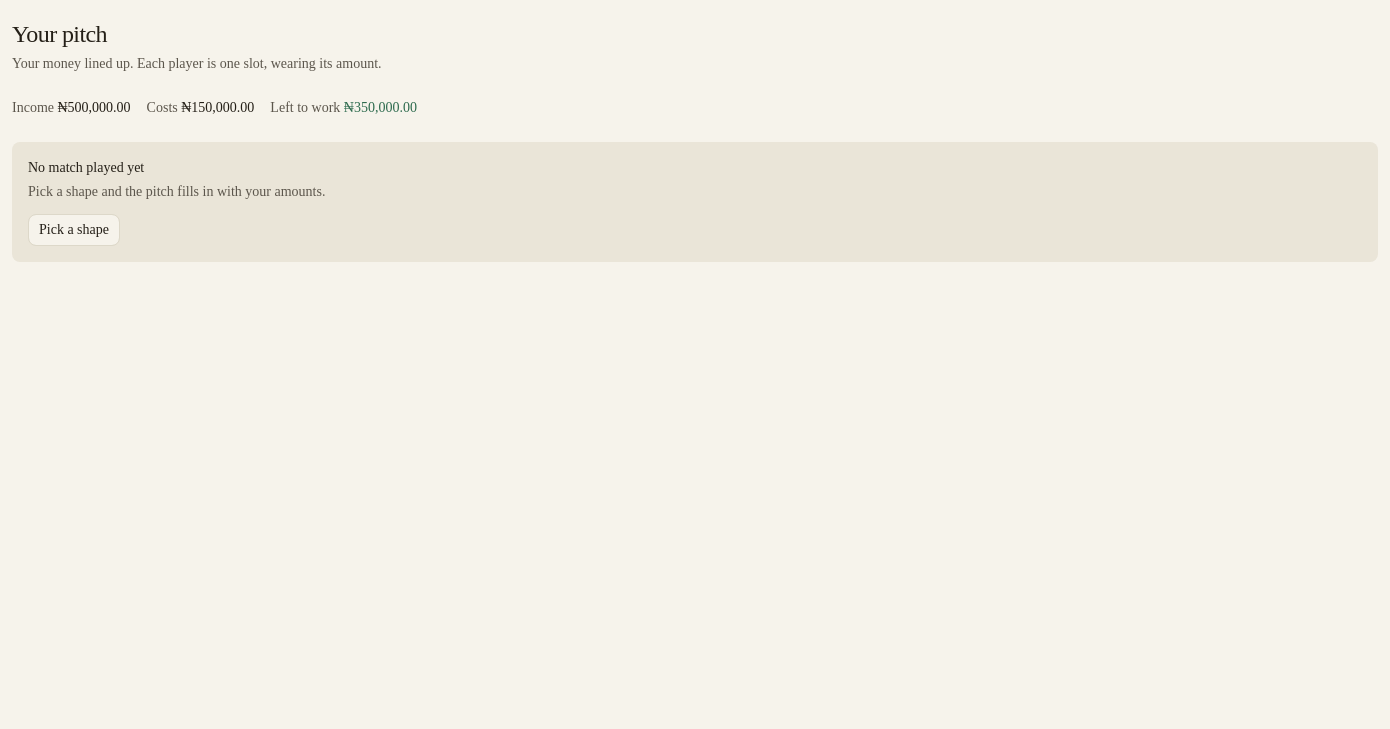
Test: Walking to the draft pitch (AC-3, AC-4) › shows totals once money is in, then the picker, then the review
This screenshot has width=1390, height=729.
Click the button "Pick a shape": (74, 230) [28,214,120,246]
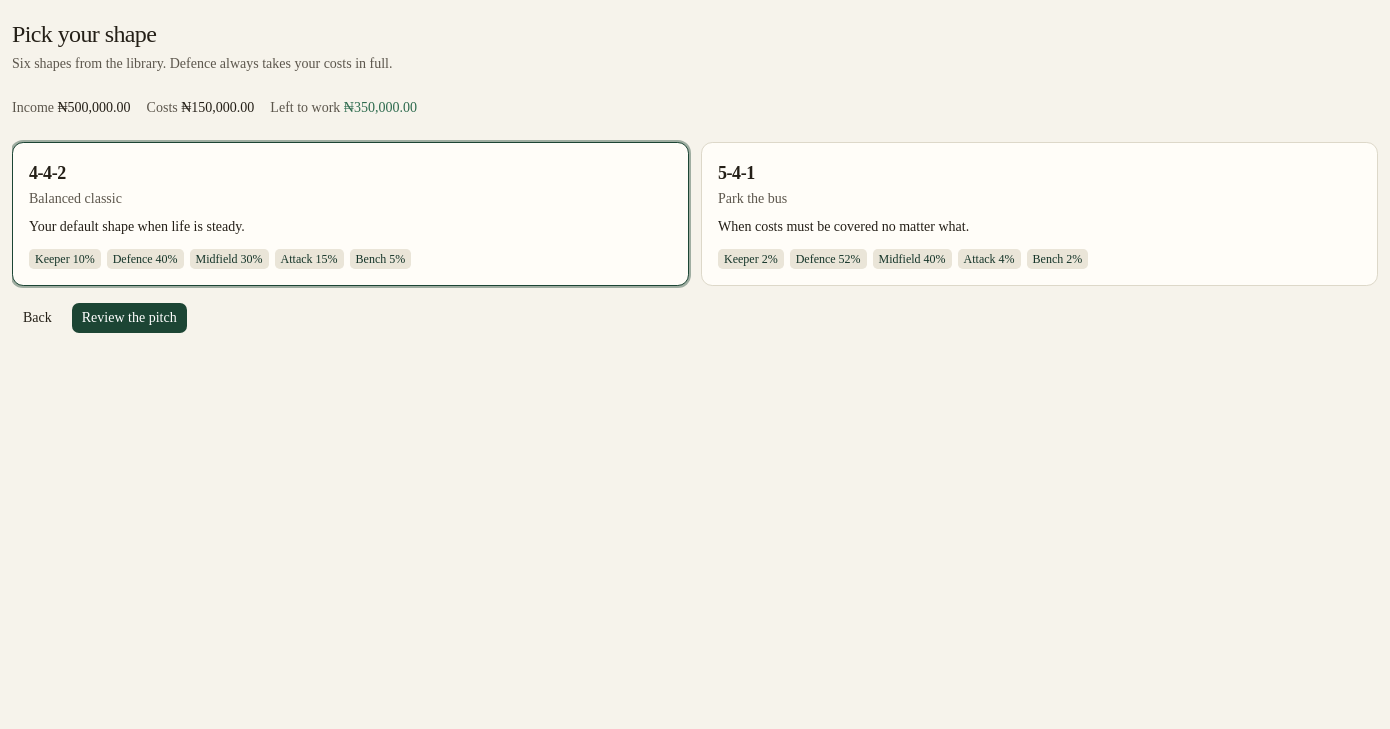
Expected: the text "Income" is shown, [12,100,54,115]
Now the heading "Pick your shape" is shown, box [12,21,156,47]
Click the button "Review the pitch": (129, 318) [71,302,188,334]
(page scrolled)
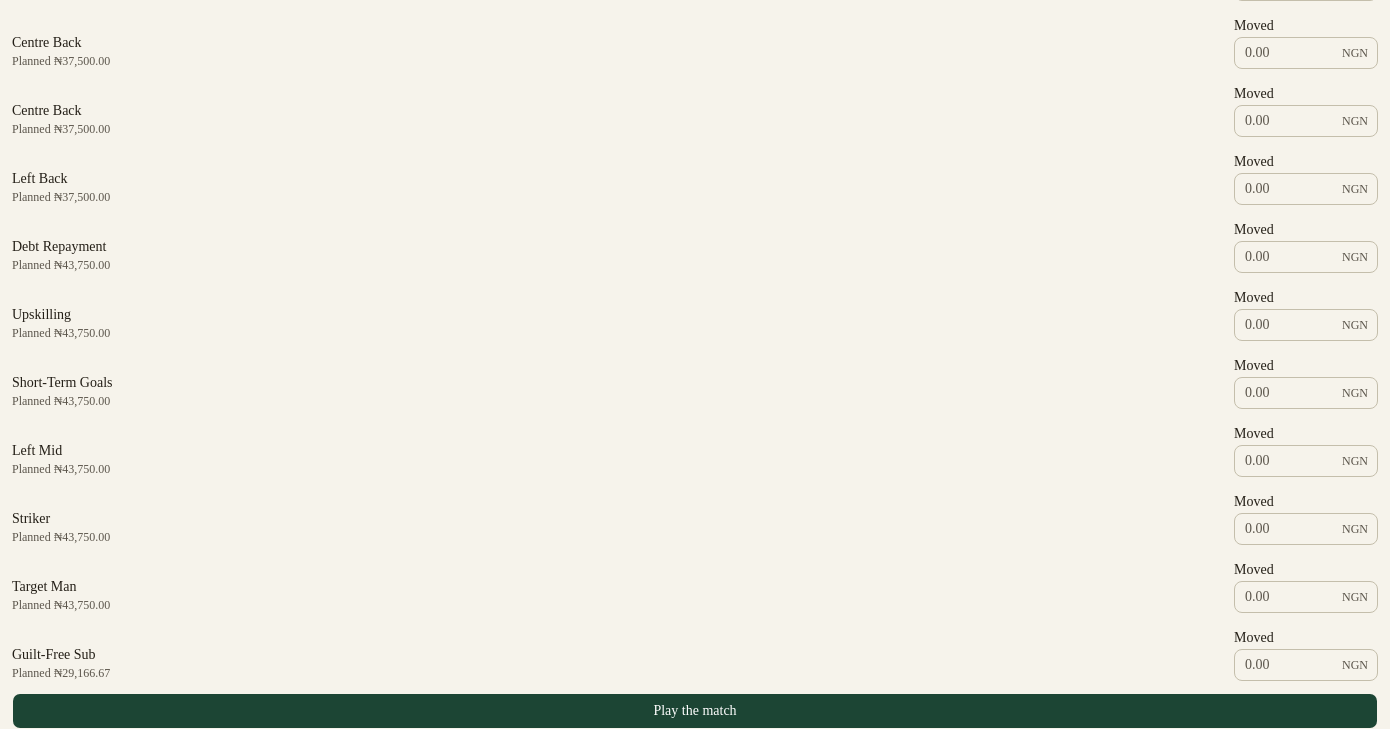
Now the button "Play the match" is shown, box [12,693,1378,728]
